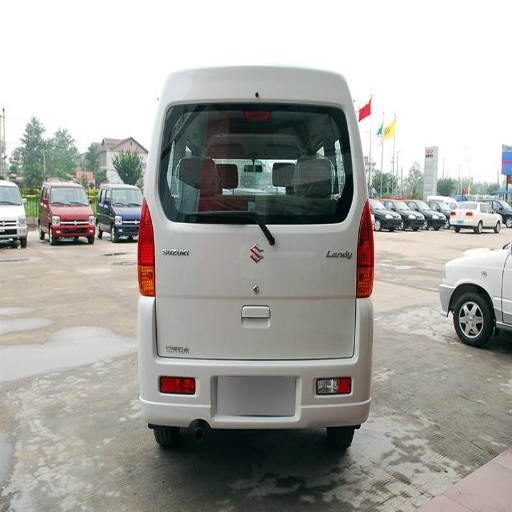back_bumper: (139, 297, 370, 430)
trunk: (142, 223, 356, 366)
